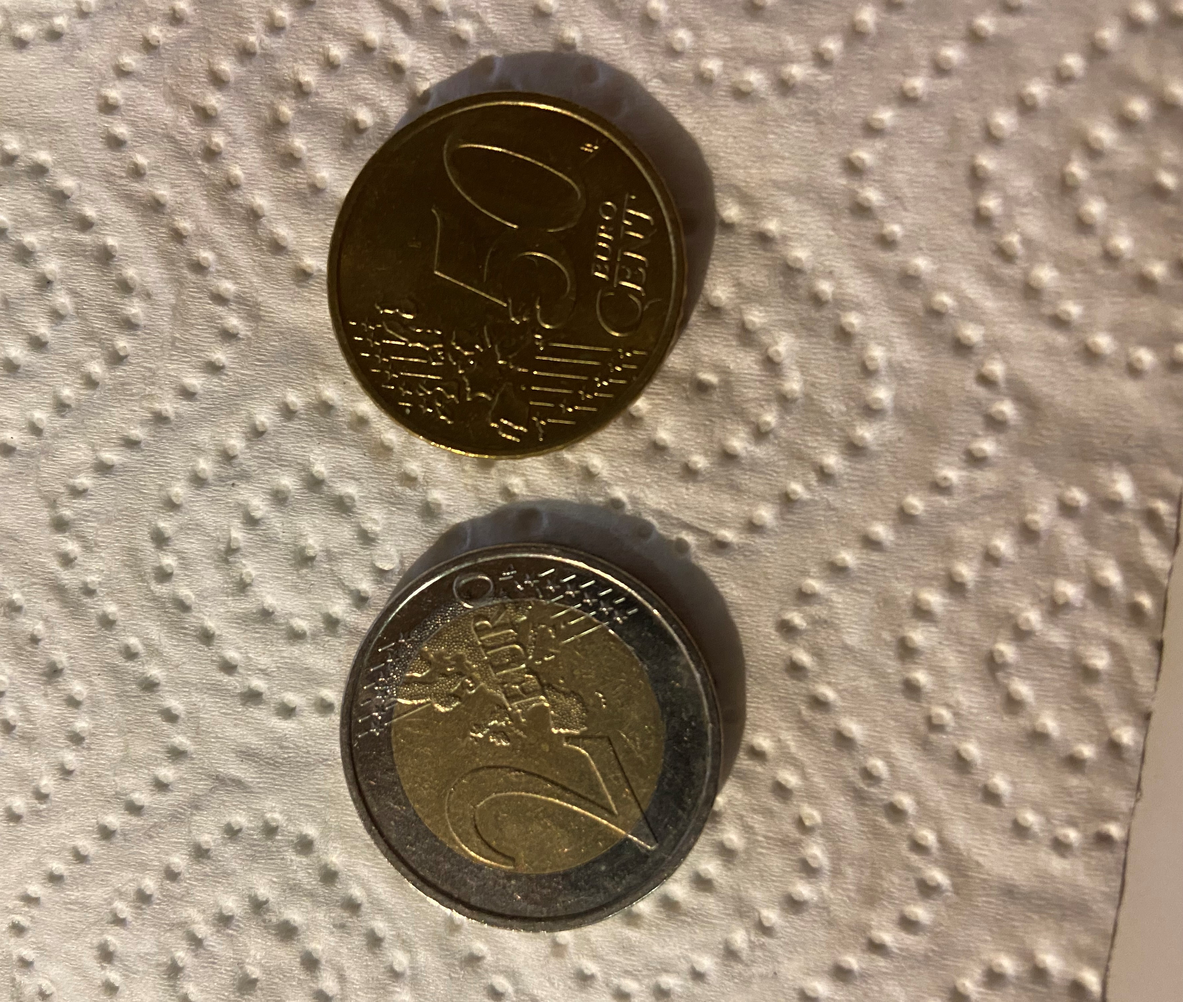2 euro: (327, 539, 739, 931)
50 cent: (326, 86, 695, 458)
